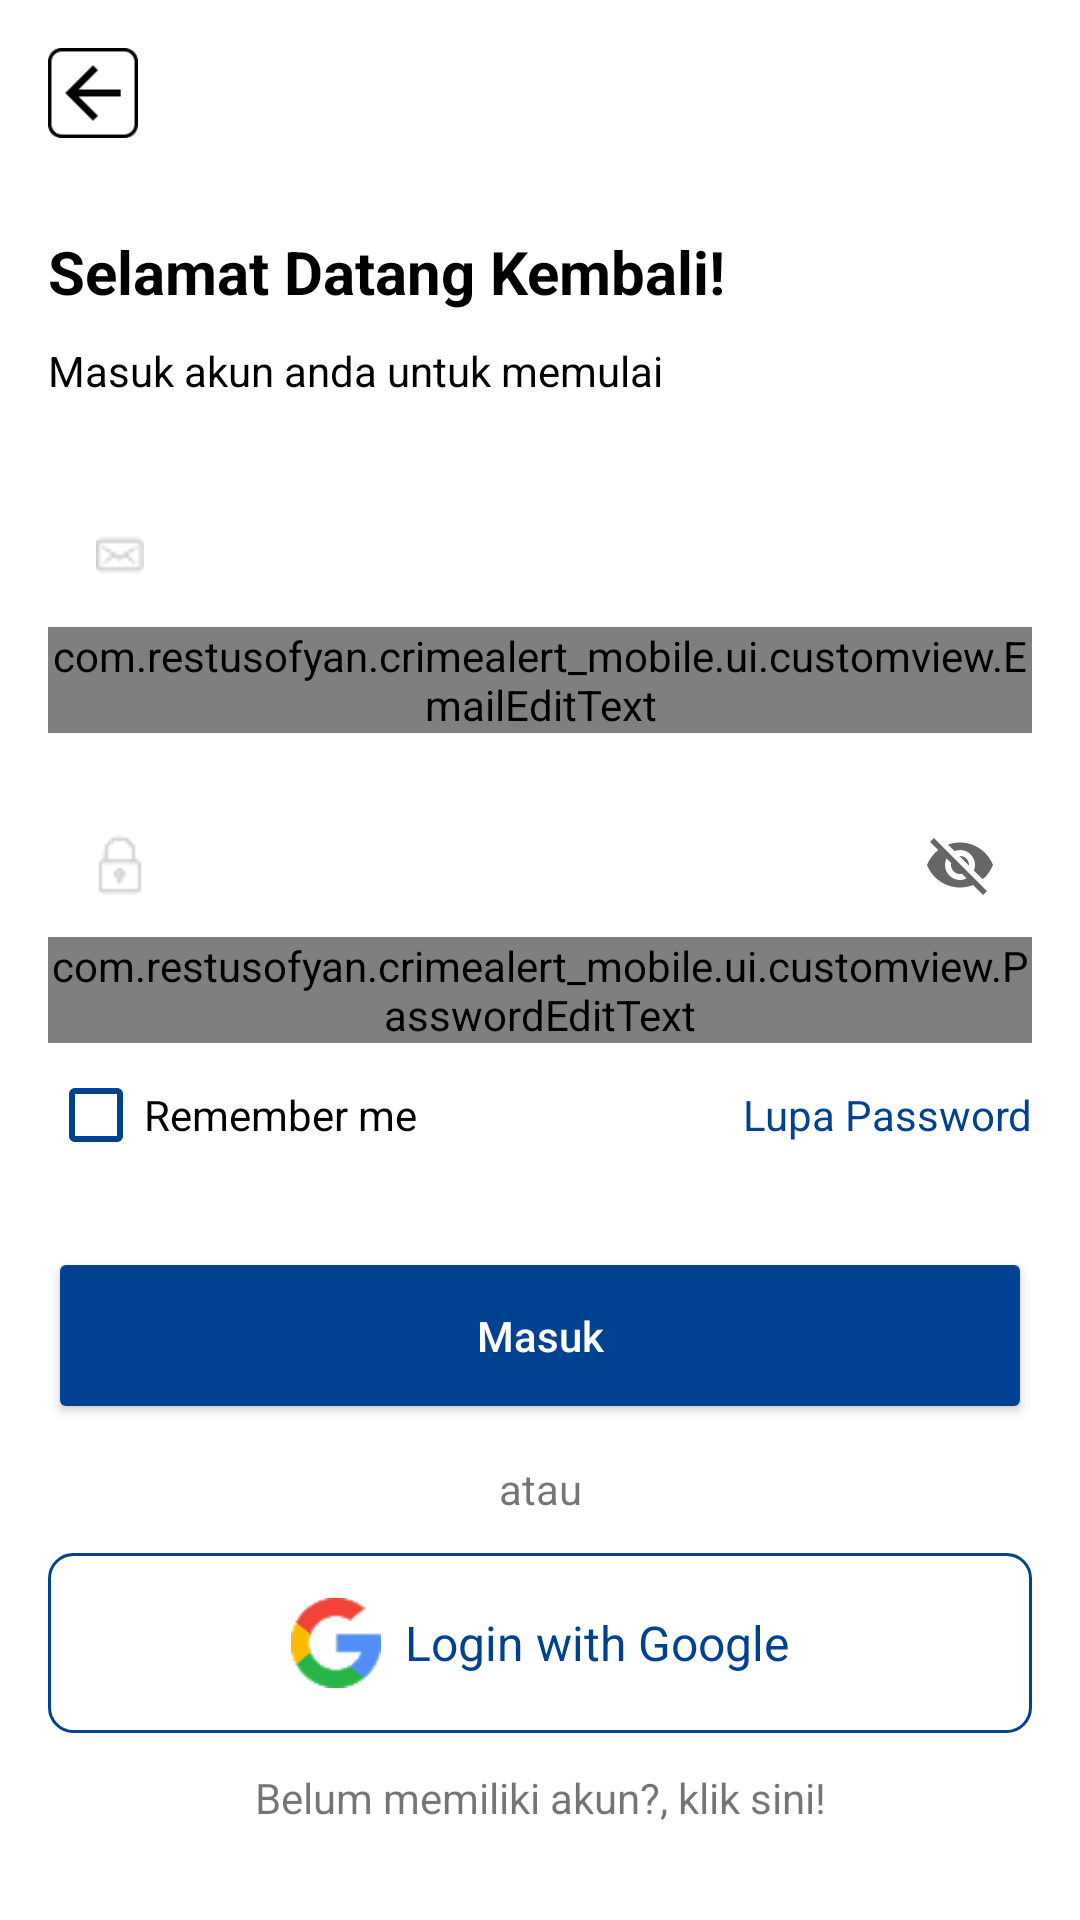

Named icons in this screenshot (1080x1920) and their centers, point (x, y):
Back: point (93, 93)
